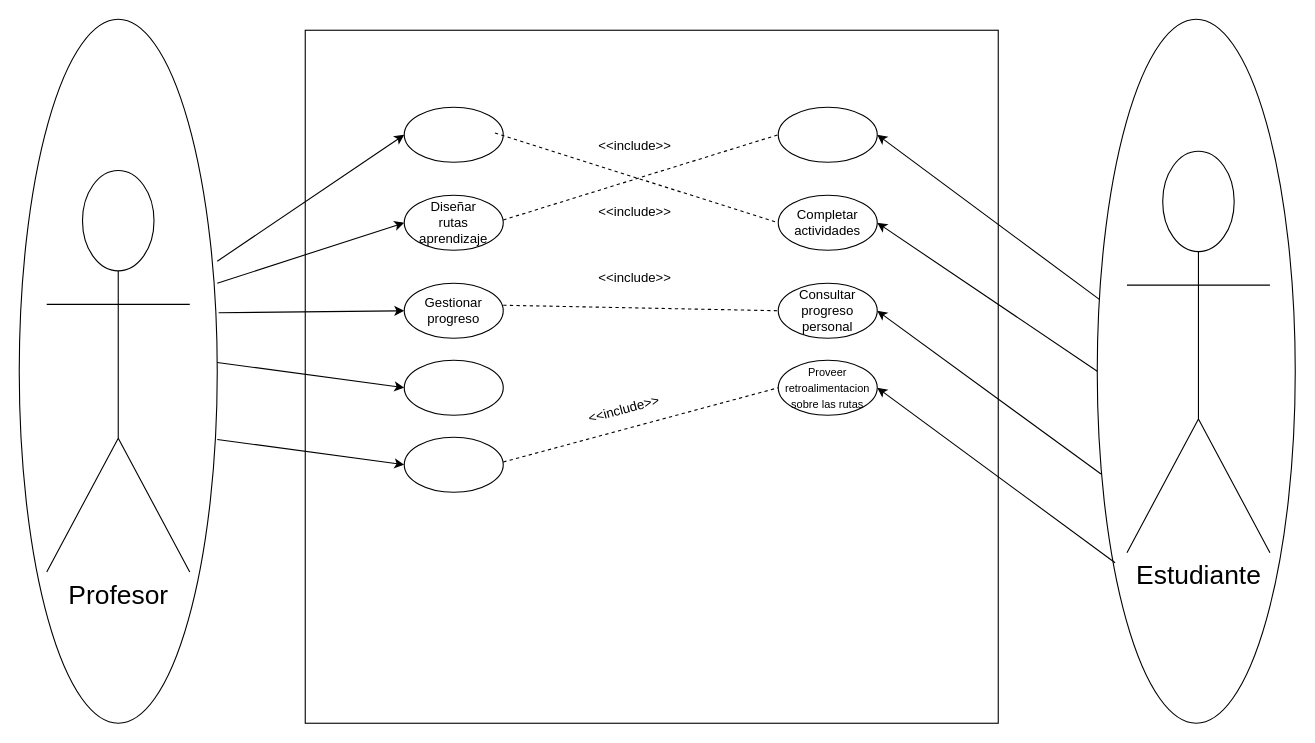
Image size: 1315x743. Some labels were removed from this diagram. The centre of each missing label's shape, as x and y in pixels:
Crear actividades: the point at 453,134
Generar reportes: the point at 453,387
Inscribirse rutas aprendizaje: the point at 827,134
Retroalimentación estudiantes: the point at 453,464
